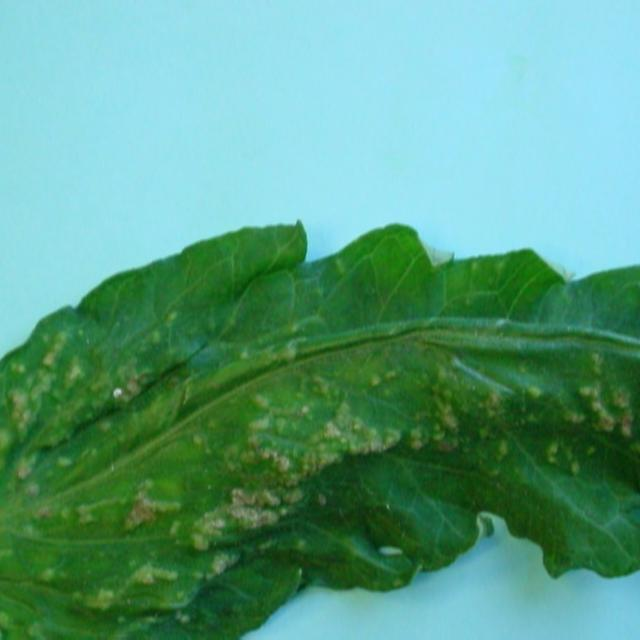Tomato mold leaf: (0, 170, 640, 640)
